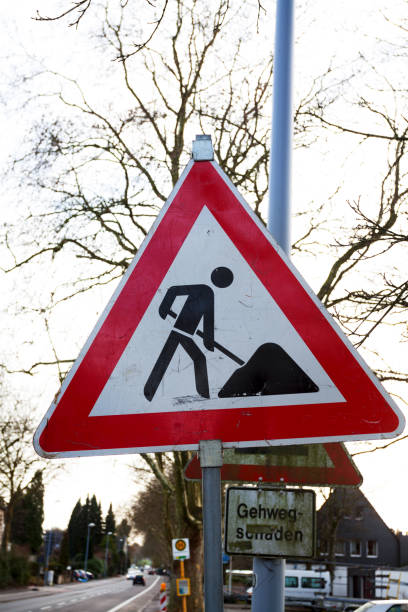yol_calismasi_levha: (37, 153, 406, 451)
